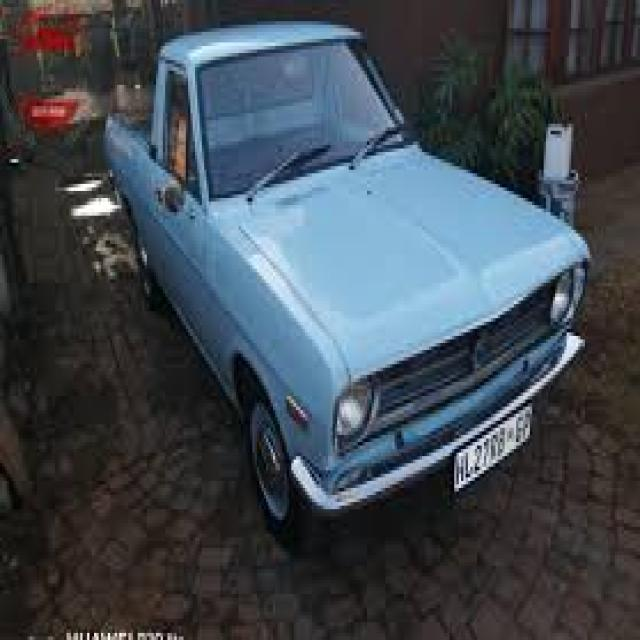Pickup Trucks: (103, 21, 592, 541)
